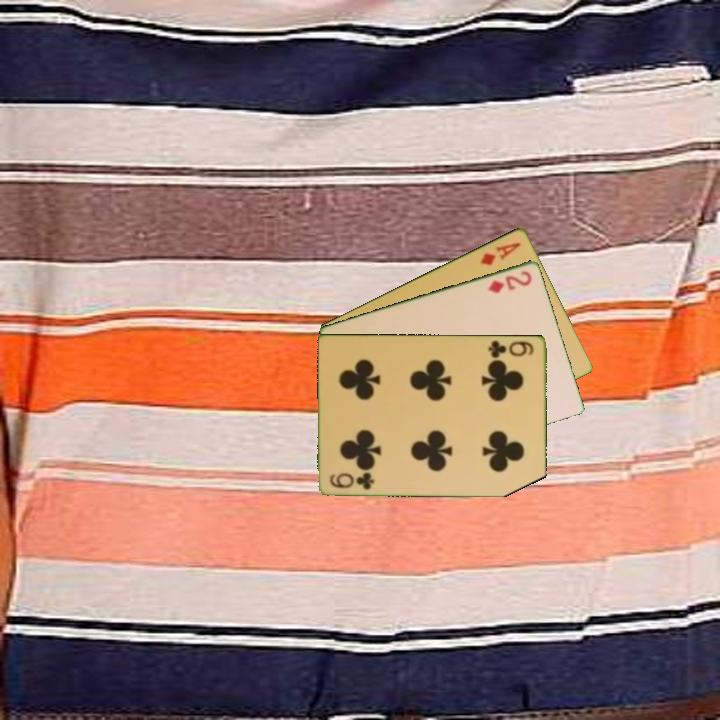2d: (484, 267, 535, 296)
6c: (485, 337, 537, 360), (327, 469, 377, 492)
Ad: (477, 238, 524, 268)
